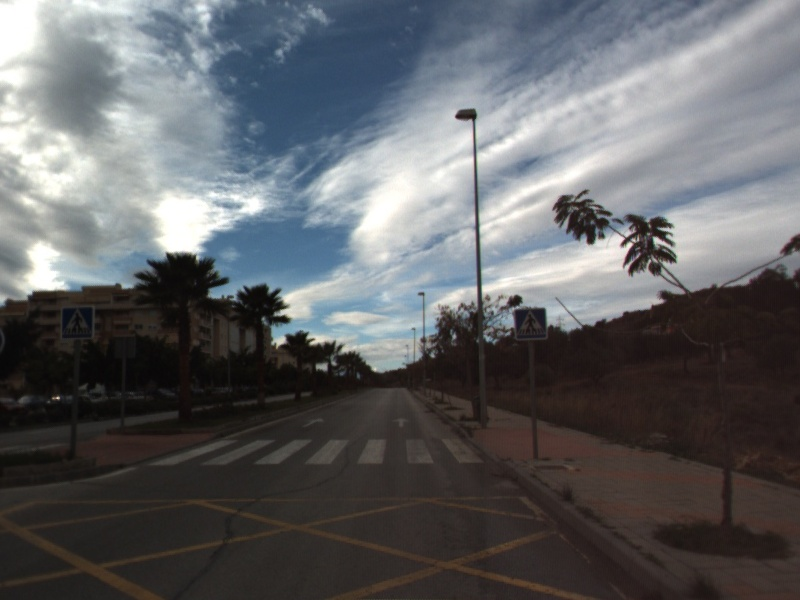STRAIGHT: (300, 415, 326, 429), (391, 415, 411, 429)
